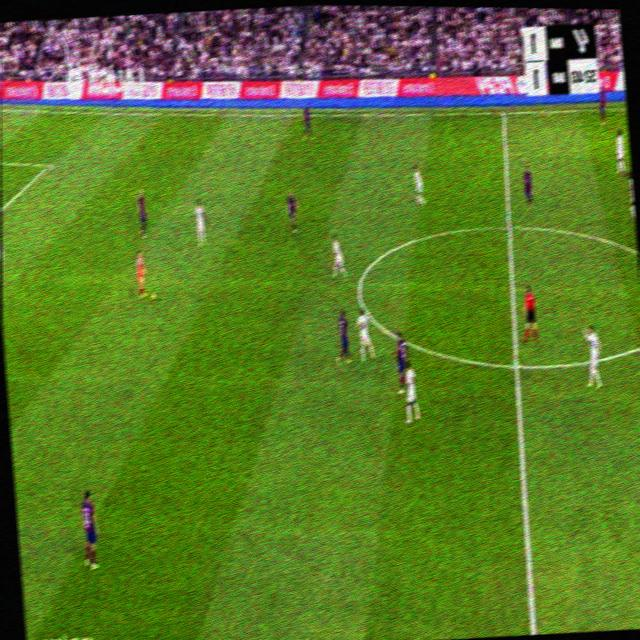bigarea_top_inner: (44, 155, 55, 173)
halfcircle_bottom: (509, 352, 523, 378)
halfcircle_top: (502, 211, 517, 240)
midline_top_intersection: (498, 105, 508, 120)
smallarea_top_inner: (44, 155, 55, 173)
